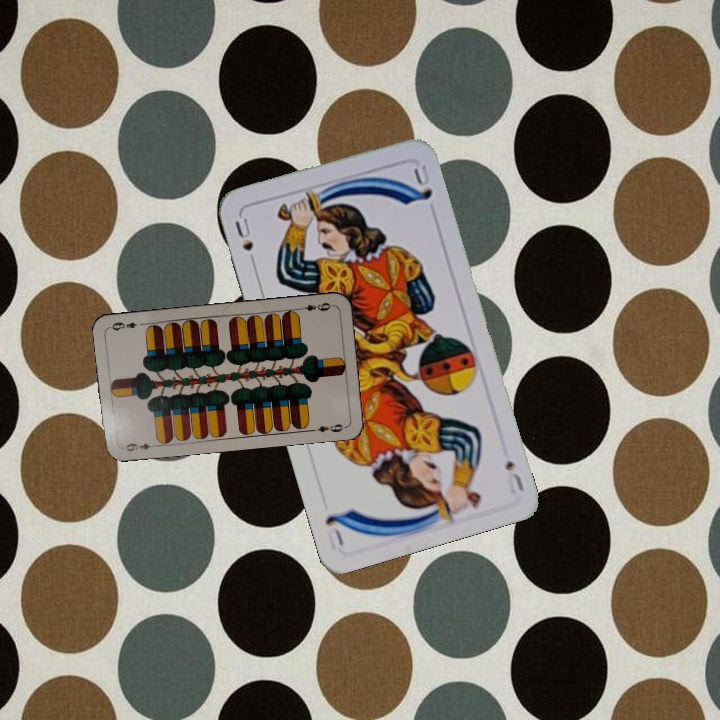E9: (295, 298, 335, 314), (119, 439, 159, 454)
SU: (230, 213, 259, 270), (501, 456, 527, 496)
